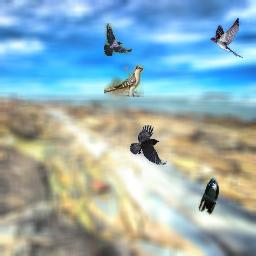Crow: (130, 125, 167, 165), (104, 23, 132, 56)
Cuckoo: (104, 65, 144, 97)
Swallow: (210, 18, 243, 58), (198, 177, 219, 216)
